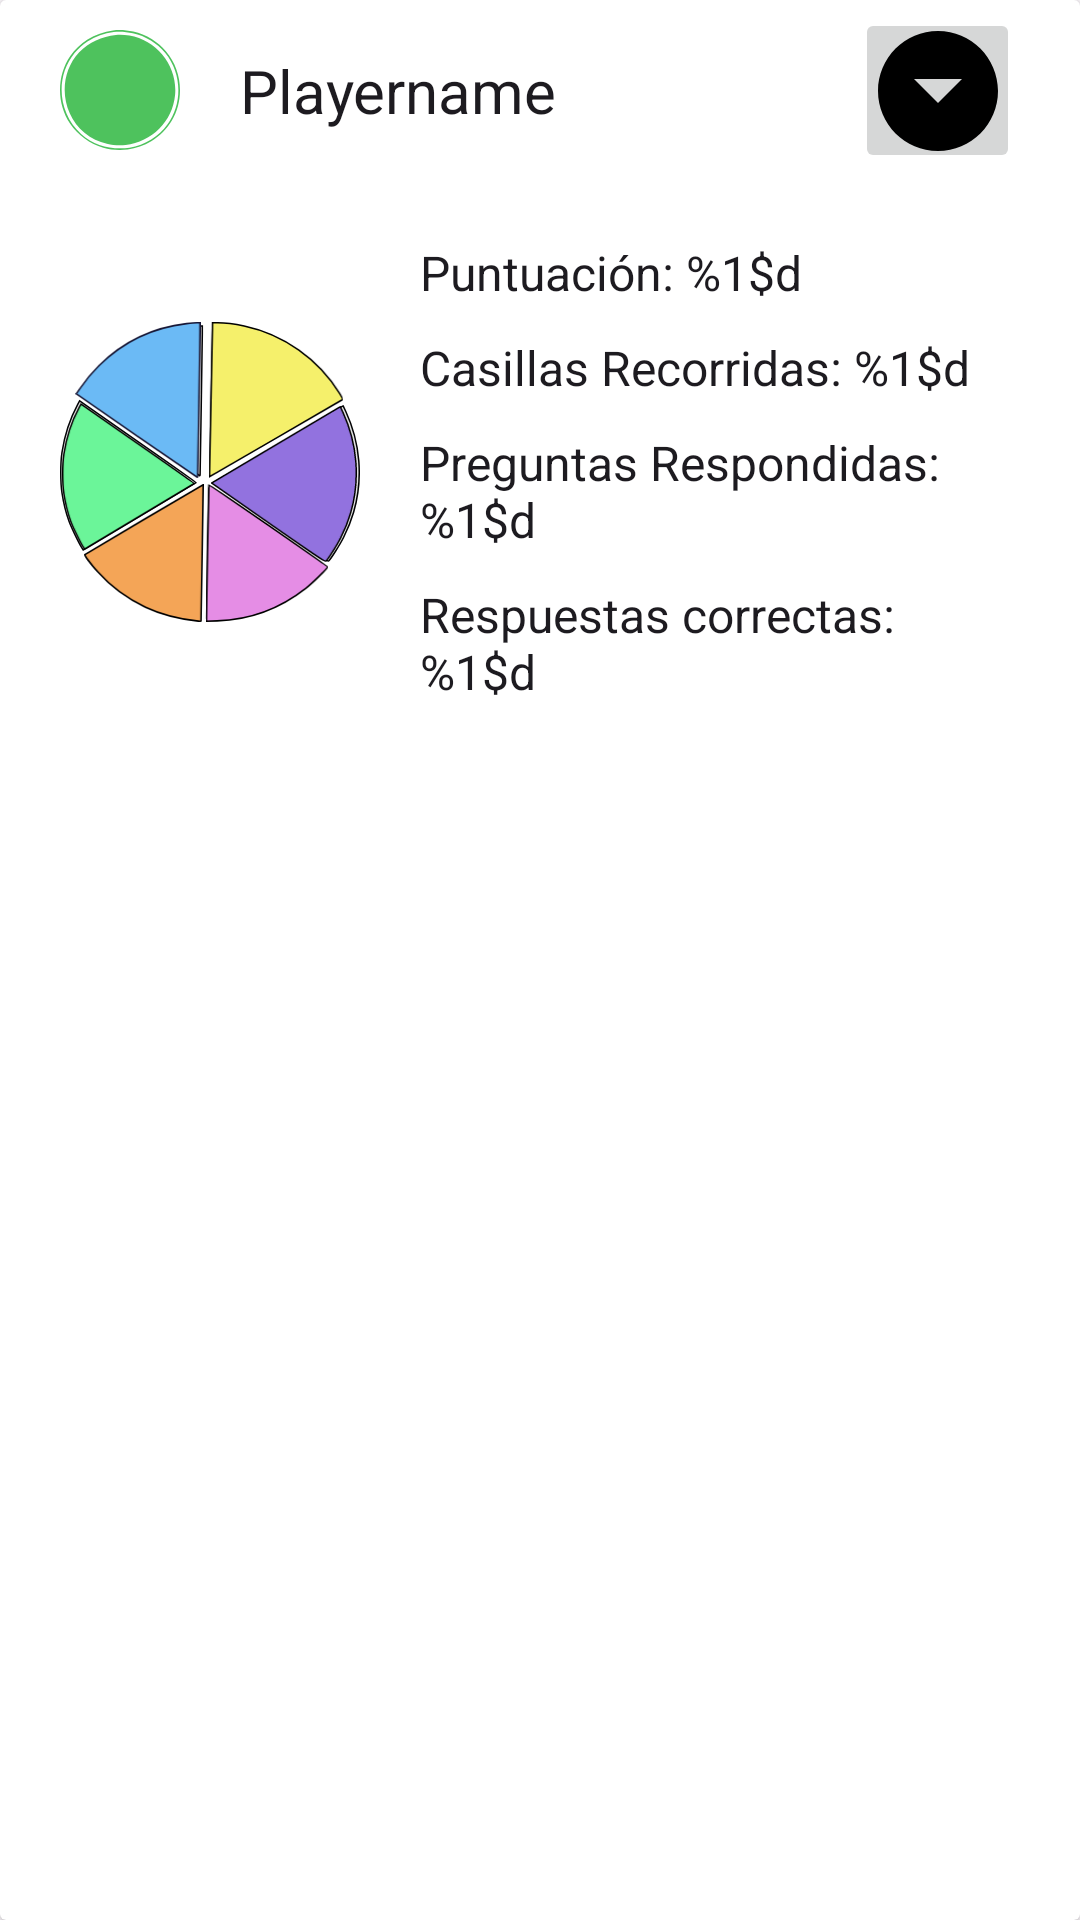

Screen size 1080px×1920px. Icon name, then its box in pixels as (x1, y1, x2, y2):
arrow down: (867, 26, 1008, 155)
